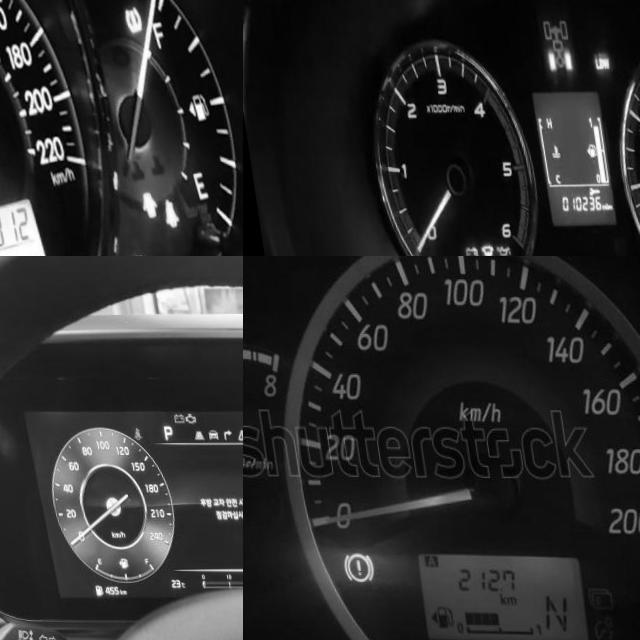Central Warning lamp: (228, 428, 239, 440)
Seat Belt: (151, 199, 169, 230)
